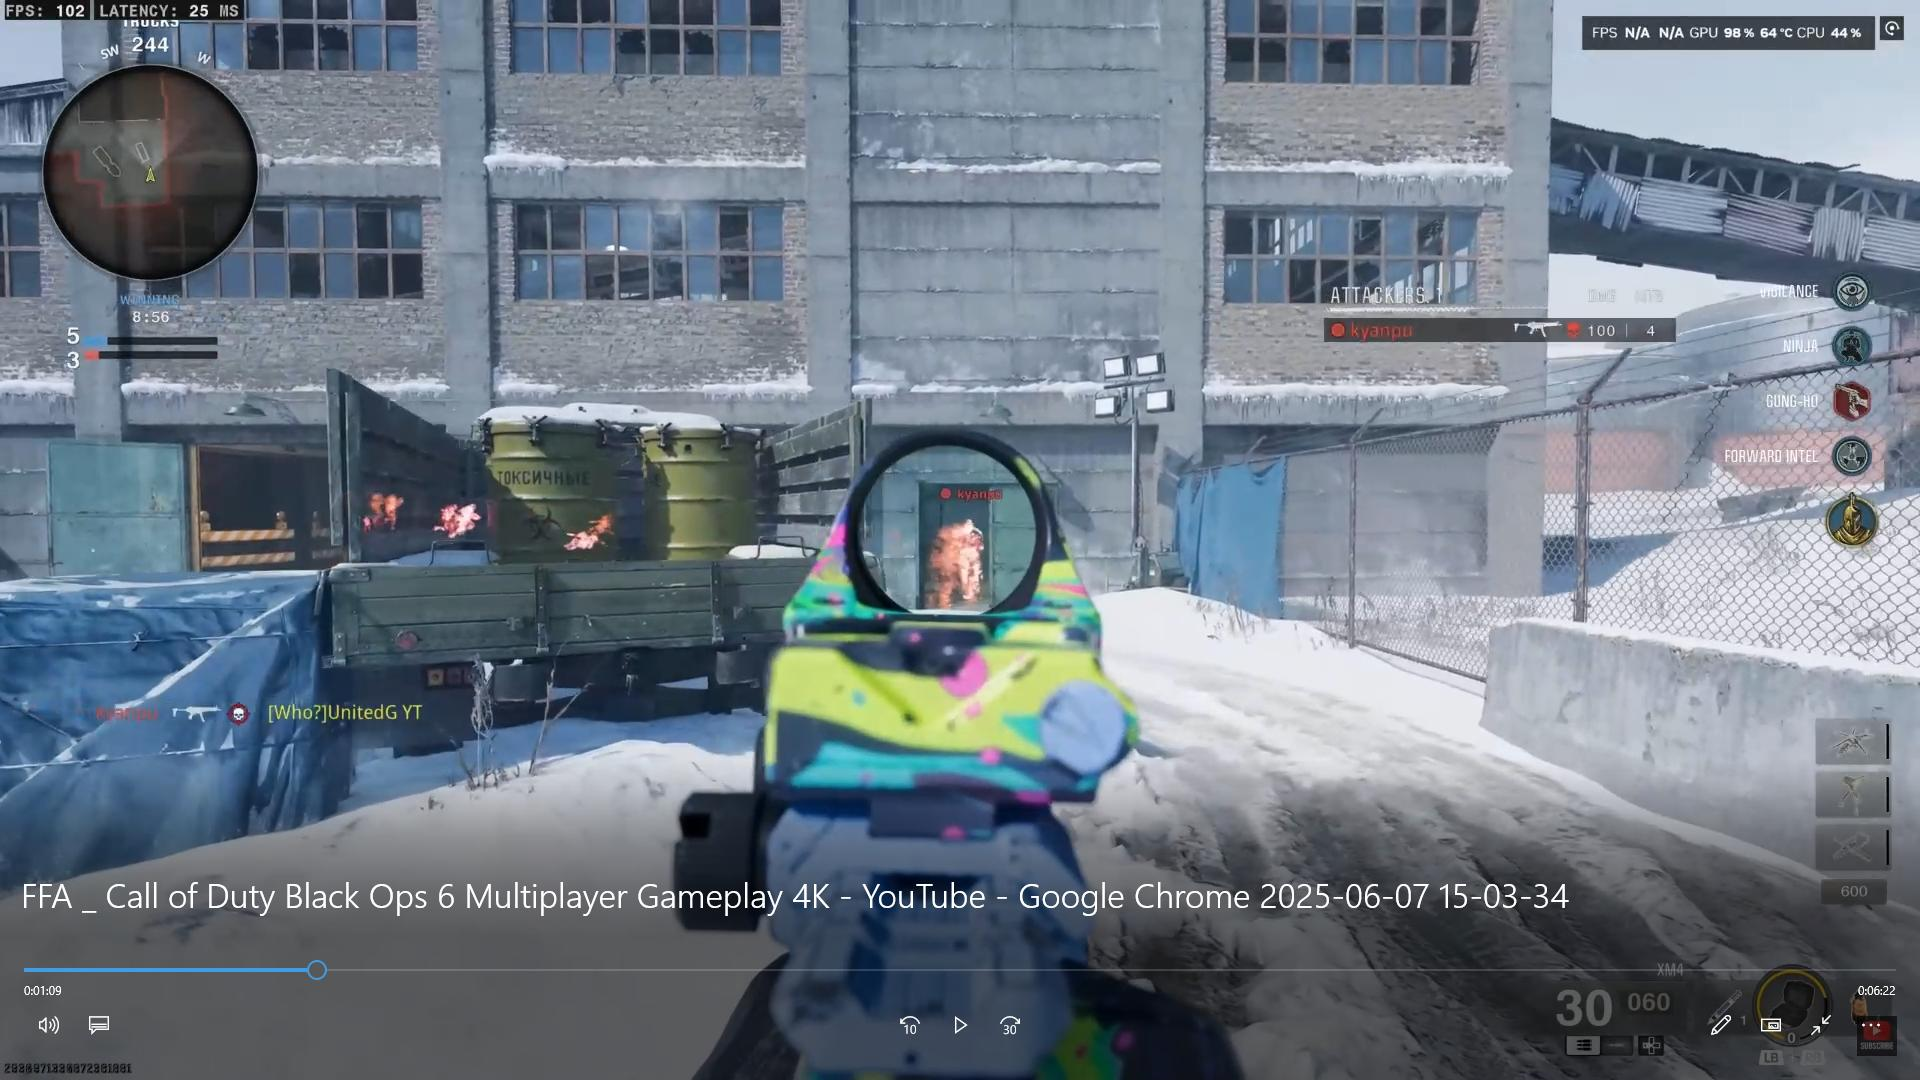Enemy: (938, 510, 990, 600)
